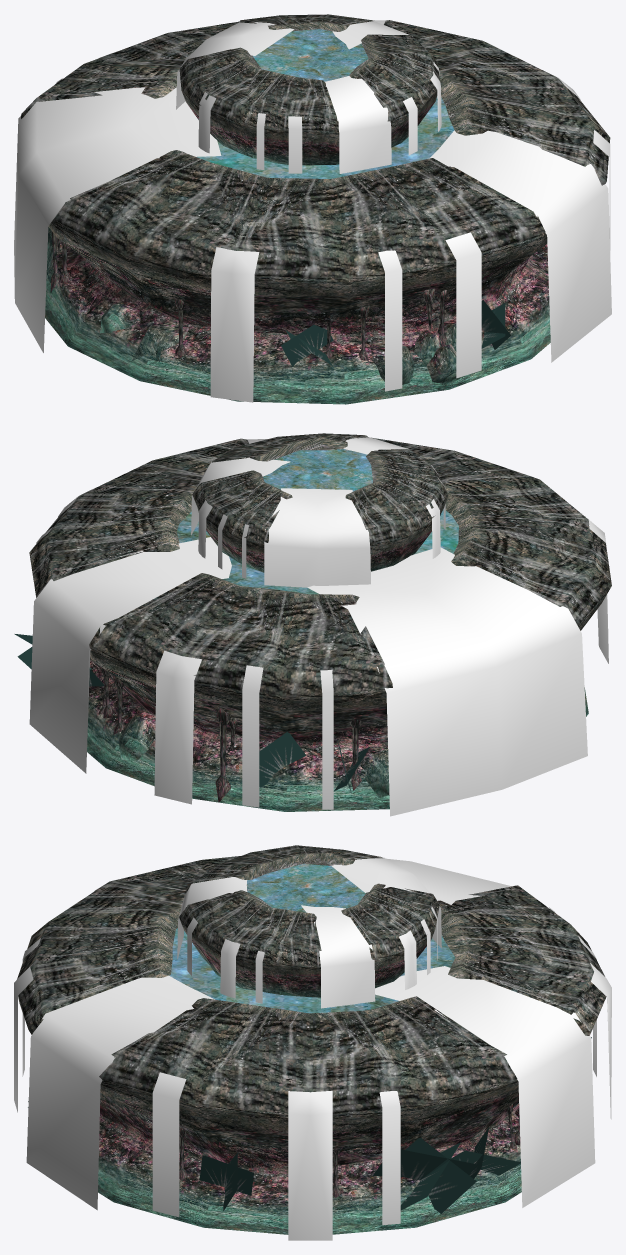
Rendered from rock_agrlt_bowl_dbl_l1.fbx.
3 views of the same model, one above another, from view 1: azimuth 30°, elevation 25°; view 2: azimuth 150°, elevation 25°; view 3: azimuth 270°, elevation 25° (orthographic). The views are drawn at different scales.
Parts seen in each view (by area): view 1: mesh_node; view 2: mesh_node; view 3: mesh_node.
Boxes of the visible parts, x1=… form: mesh_node: x1=14, y1=14, x2=611, y2=404; mesh_node: x1=14, y1=433, x2=611, y2=816; mesh_node: x1=14, y1=845, x2=611, y2=1240.
Bounding box in the file's own units: 53.74 × 23.23 × 52.39.
